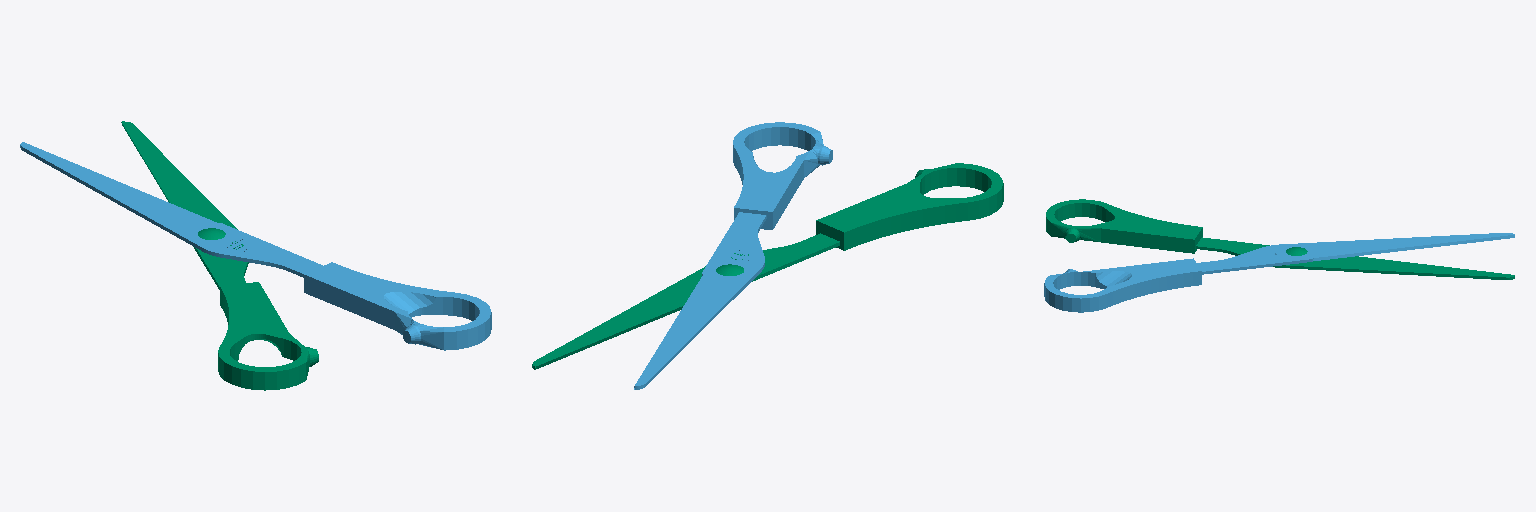
robot.urdf — partnet_u1966699a-abb5-432a-914d-826efb36ad26:
<?xml version="1.0" ?>
<robot name="partnet_u1966699a-abb5-432a-914d-826efb36ad26">
	<link name="base"/>
	<link name="link_0">
		<visual name="blade-4">
			<origin xyz="0.2846520829972621 -0.022109055279467604 -0.0051237135638028675"/>
			<geometry>
				<mesh filename="textured_objs/original-14.obj"/>
			</geometry>
		</visual>
		<visual name="blade-4">
			<origin xyz="0.2846520829972621 -0.022109055279467604 -0.0051237135638028675"/>
			<geometry>
				<mesh filename="textured_objs/original-12.obj"/>
			</geometry>
		</visual>
		<visual name="blade-4">
			<origin xyz="0.2846520829972621 -0.022109055279467604 -0.0051237135638028675"/>
			<geometry>
				<mesh filename="textured_objs/original-11.obj"/>
			</geometry>
		</visual>
		<visual name="blade-4">
			<origin xyz="0.2846520829972621 -0.022109055279467604 -0.0051237135638028675"/>
			<geometry>
				<mesh filename="textured_objs/original-32.obj"/>
			</geometry>
		</visual>
		<visual name="blade-4">
			<origin xyz="0.2846520829972621 -0.022109055279467604 -0.0051237135638028675"/>
			<geometry>
				<mesh filename="textured_objs/original-31.obj"/>
			</geometry>
		</visual>
		<visual name="blade-4">
			<origin xyz="0.2846520829972621 -0.022109055279467604 -0.0051237135638028675"/>
			<geometry>
				<mesh filename="textured_objs/original-34.obj"/>
			</geometry>
		</visual>
		<visual name="blade-4">
			<origin xyz="0.2846520829972621 -0.022109055279467604 -0.0051237135638028675"/>
			<geometry>
				<mesh filename="textured_objs/original-3.obj"/>
			</geometry>
		</visual>
		<visual name="blade-4">
			<origin xyz="0.2846520829972621 -0.022109055279467604 -0.0051237135638028675"/>
			<geometry>
				<mesh filename="textured_objs/original-33.obj"/>
			</geometry>
		</visual>
		<visual name="blade-4">
			<origin xyz="0.2846520829972621 -0.022109055279467604 -0.0051237135638028675"/>
			<geometry>
				<mesh filename="textured_objs/original-2.obj"/>
			</geometry>
		</visual>
		<visual name="blade-4">
			<origin xyz="0.2846520829972621 -0.022109055279467604 -0.0051237135638028675"/>
			<geometry>
				<mesh filename="textured_objs/original-21.obj"/>
			</geometry>
		</visual>
		<visual name="blade-4">
			<origin xyz="0.2846520829972621 -0.022109055279467604 -0.0051237135638028675"/>
			<geometry>
				<mesh filename="textured_objs/original-1.obj"/>
			</geometry>
		</visual>
		<visual name="blade-4">
			<origin xyz="0.2846520829972621 -0.022109055279467604 -0.0051237135638028675"/>
			<geometry>
				<mesh filename="textured_objs/original-24.obj"/>
			</geometry>
		</visual>
		<visual name="blade-4">
			<origin xyz="0.2846520829972621 -0.022109055279467604 -0.0051237135638028675"/>
			<geometry>
				<mesh filename="textured_objs/original-30.obj"/>
			</geometry>
		</visual>
		<visual name="blade-4">
			<origin xyz="0.2846520829972621 -0.022109055279467604 -0.0051237135638028675"/>
			<geometry>
				<mesh filename="textured_objs/original-19.obj"/>
			</geometry>
		</visual>
		<visual name="blade-4">
			<origin xyz="0.2846520829972621 -0.022109055279467604 -0.0051237135638028675"/>
			<geometry>
				<mesh filename="textured_objs/original-13.obj"/>
			</geometry>
		</visual>
		<visual name="handle-5">
			<origin xyz="0.2846520829972621 -0.022109055279467604 -0.0051237135638028675"/>
			<geometry>
				<mesh filename="textured_objs/original-8.obj"/>
			</geometry>
		</visual>
		<visual name="handle-5">
			<origin xyz="0.2846520829972621 -0.022109055279467604 -0.0051237135638028675"/>
			<geometry>
				<mesh filename="textured_objs/original-9.obj"/>
			</geometry>
		</visual>
		<collision>
			<origin xyz="0.2846520829972621 -0.022109055279467604 -0.0051237135638028675"/>
			<geometry>
				<mesh filename="textured_objs/original-14.obj"/>
			</geometry>
		</collision>
		<collision>
			<origin xyz="0.2846520829972621 -0.022109055279467604 -0.0051237135638028675"/>
			<geometry>
				<mesh filename="textured_objs/original-12.obj"/>
			</geometry>
		</collision>
		<collision>
			<origin xyz="0.2846520829972621 -0.022109055279467604 -0.0051237135638028675"/>
			<geometry>
				<mesh filename="textured_objs/original-11.obj"/>
			</geometry>
		</collision>
		<collision>
			<origin xyz="0.2846520829972621 -0.022109055279467604 -0.0051237135638028675"/>
			<geometry>
				<mesh filename="textured_objs/original-32.obj"/>
			</geometry>
		</collision>
		<collision>
			<origin xyz="0.2846520829972621 -0.022109055279467604 -0.0051237135638028675"/>
			<geometry>
				<mesh filename="textured_objs/original-31.obj"/>
			</geometry>
		</collision>
		<collision>
			<origin xyz="0.2846520829972621 -0.022109055279467604 -0.0051237135638028675"/>
			<geometry>
				<mesh filename="textured_objs/original-34.obj"/>
			</geometry>
		</collision>
		<collision>
			<origin xyz="0.2846520829972621 -0.022109055279467604 -0.0051237135638028675"/>
			<geometry>
				<mesh filename="textured_objs/original-3.obj"/>
			</geometry>
		</collision>
		<collision>
			<origin xyz="0.2846520829972621 -0.022109055279467604 -0.0051237135638028675"/>
			<geometry>
				<mesh filename="textured_objs/original-33.obj"/>
			</geometry>
		</collision>
		<collision>
			<origin xyz="0.2846520829972621 -0.022109055279467604 -0.0051237135638028675"/>
			<geometry>
				<mesh filename="textured_objs/original-2.obj"/>
			</geometry>
		</collision>
		<collision>
			<origin xyz="0.2846520829972621 -0.022109055279467604 -0.0051237135638028675"/>
			<geometry>
				<mesh filename="textured_objs/original-21.obj"/>
			</geometry>
		</collision>
		<collision>
			<origin xyz="0.2846520829972621 -0.022109055279467604 -0.0051237135638028675"/>
			<geometry>
				<mesh filename="textured_objs/original-1.obj"/>
			</geometry>
		</collision>
		<collision>
			<origin xyz="0.2846520829972621 -0.022109055279467604 -0.0051237135638028675"/>
			<geometry>
				<mesh filename="textured_objs/original-24.obj"/>
			</geometry>
		</collision>
		<collision>
			<origin xyz="0.2846520829972621 -0.022109055279467604 -0.0051237135638028675"/>
			<geometry>
				<mesh filename="textured_objs/original-30.obj"/>
			</geometry>
		</collision>
		<collision>
			<origin xyz="0.2846520829972621 -0.022109055279467604 -0.0051237135638028675"/>
			<geometry>
				<mesh filename="textured_objs/original-19.obj"/>
			</geometry>
		</collision>
		<collision>
			<origin xyz="0.2846520829972621 -0.022109055279467604 -0.0051237135638028675"/>
			<geometry>
				<mesh filename="textured_objs/original-13.obj"/>
			</geometry>
		</collision>
		<collision>
			<origin xyz="0.2846520829972621 -0.022109055279467604 -0.0051237135638028675"/>
			<geometry>
				<mesh filename="textured_objs/original-8.obj"/>
			</geometry>
		</collision>
		<collision>
			<origin xyz="0.2846520829972621 -0.022109055279467604 -0.0051237135638028675"/>
			<geometry>
				<mesh filename="textured_objs/original-9.obj"/>
			</geometry>
		</collision>
	</link>
	<joint name="joint_0" type="revolute">
		<origin xyz="-0.2846520829972621 0.022109055279467604 0.0051237135638028675"/>
		<axis xyz="0 1 0"/>
		<child link="link_0"/>
		<parent link="link_1"/>
		<limit lower="-0.3665191429188092" upper="0.7853981633974483"/>
	</joint>
	<link name="link_1">
		<visual name="screw-3">
			<origin xyz="0 0 0"/>
			<geometry>
				<mesh filename="textured_objs/original-36.obj"/>
			</geometry>
		</visual>
		<visual name="screw-3">
			<origin xyz="0 0 0"/>
			<geometry>
				<mesh filename="textured_objs/original-39.obj"/>
			</geometry>
		</visual>
		<visual name="screw-3">
			<origin xyz="0 0 0"/>
			<geometry>
				<mesh filename="textured_objs/original-28.obj"/>
			</geometry>
		</visual>
		<visual name="screw-3">
			<origin xyz="0 0 0"/>
			<geometry>
				<mesh filename="textured_objs/original-27.obj"/>
			</geometry>
		</visual>
		<visual name="screw-3">
			<origin xyz="0 0 0"/>
			<geometry>
				<mesh filename="textured_objs/original-38.obj"/>
			</geometry>
		</visual>
		<visual name="screw-3">
			<origin xyz="0 0 0"/>
			<geometry>
				<mesh filename="textured_objs/original-29.obj"/>
			</geometry>
		</visual>
		<visual name="screw-3">
			<origin xyz="0 0 0"/>
			<geometry>
				<mesh filename="textured_objs/original-26.obj"/>
			</geometry>
		</visual>
		<visual name="screw-3">
			<origin xyz="0 0 0"/>
			<geometry>
				<mesh filename="textured_objs/original-23.obj"/>
			</geometry>
		</visual>
		<visual name="screw-3">
			<origin xyz="0 0 0"/>
			<geometry>
				<mesh filename="textured_objs/original-25.obj"/>
			</geometry>
		</visual>
		<visual name="screw-3">
			<origin xyz="0 0 0"/>
			<geometry>
				<mesh filename="textured_objs/original-20.obj"/>
			</geometry>
		</visual>
		<visual name="screw-3">
			<origin xyz="0 0 0"/>
			<geometry>
				<mesh filename="textured_objs/original-37.obj"/>
			</geometry>
		</visual>
		<visual name="screw-3">
			<origin xyz="0 0 0"/>
			<geometry>
				<mesh filename="textured_objs/original-40.obj"/>
			</geometry>
		</visual>
		<visual name="blade-6">
			<origin xyz="0 0 0"/>
			<geometry>
				<mesh filename="textured_objs/original-18.obj"/>
			</geometry>
		</visual>
		<visual name="blade-6">
			<origin xyz="0 0 0"/>
			<geometry>
				<mesh filename="textured_objs/original-7.obj"/>
			</geometry>
		</visual>
		<visual name="blade-6">
			<origin xyz="0 0 0"/>
			<geometry>
				<mesh filename="textured_objs/original-17.obj"/>
			</geometry>
		</visual>
		<visual name="blade-6">
			<origin xyz="0 0 0"/>
			<geometry>
				<mesh filename="textured_objs/original-16.obj"/>
			</geometry>
		</visual>
		<visual name="handle-7">
			<origin xyz="0 0 0"/>
			<geometry>
				<mesh filename="textured_objs/original-4.obj"/>
			</geometry>
		</visual>
		<visual name="handle-7">
			<origin xyz="0 0 0"/>
			<geometry>
				<mesh filename="textured_objs/original-6.obj"/>
			</geometry>
		</visual>
		<collision>
			<origin xyz="0 0 0"/>
			<geometry>
				<mesh filename="textured_objs/original-36.obj"/>
			</geometry>
		</collision>
		<collision>
			<origin xyz="0 0 0"/>
			<geometry>
				<mesh filename="textured_objs/original-39.obj"/>
			</geometry>
		</collision>
		<collision>
			<origin xyz="0 0 0"/>
			<geometry>
				<mesh filename="textured_objs/original-28.obj"/>
			</geometry>
		</collision>
		<collision>
			<origin xyz="0 0 0"/>
			<geometry>
				<mesh filename="textured_objs/original-27.obj"/>
			</geometry>
		</collision>
		<collision>
			<origin xyz="0 0 0"/>
			<geometry>
				<mesh filename="textured_objs/original-38.obj"/>
			</geometry>
		</collision>
		<collision>
			<origin xyz="0 0 0"/>
			<geometry>
				<mesh filename="textured_objs/original-29.obj"/>
			</geometry>
		</collision>
		<collision>
			<origin xyz="0 0 0"/>
			<geometry>
				<mesh filename="textured_objs/original-26.obj"/>
			</geometry>
		</collision>
		<collision>
			<origin xyz="0 0 0"/>
			<geometry>
				<mesh filename="textured_objs/original-23.obj"/>
			</geometry>
		</collision>
		<collision>
			<origin xyz="0 0 0"/>
			<geometry>
				<mesh filename="textured_objs/original-25.obj"/>
			</geometry>
		</collision>
		<collision>
			<origin xyz="0 0 0"/>
			<geometry>
				<mesh filename="textured_objs/original-20.obj"/>
			</geometry>
		</collision>
		<collision>
			<origin xyz="0 0 0"/>
			<geometry>
				<mesh filename="textured_objs/original-37.obj"/>
			</geometry>
		</collision>
		<collision>
			<origin xyz="0 0 0"/>
			<geometry>
				<mesh filename="textured_objs/original-40.obj"/>
			</geometry>
		</collision>
		<collision>
			<origin xyz="0 0 0"/>
			<geometry>
				<mesh filename="textured_objs/original-18.obj"/>
			</geometry>
		</collision>
		<collision>
			<origin xyz="0 0 0"/>
			<geometry>
				<mesh filename="textured_objs/original-7.obj"/>
			</geometry>
		</collision>
		<collision>
			<origin xyz="0 0 0"/>
			<geometry>
				<mesh filename="textured_objs/original-17.obj"/>
			</geometry>
		</collision>
		<collision>
			<origin xyz="0 0 0"/>
			<geometry>
				<mesh filename="textured_objs/original-16.obj"/>
			</geometry>
		</collision>
		<collision>
			<origin xyz="0 0 0"/>
			<geometry>
				<mesh filename="textured_objs/original-4.obj"/>
			</geometry>
		</collision>
		<collision>
			<origin xyz="0 0 0"/>
			<geometry>
				<mesh filename="textured_objs/original-6.obj"/>
			</geometry>
		</collision>
	</link>
	<joint name="joint_1" type="fixed">
		<origin rpy="1.570796326794897 0 -1.570796326794897" xyz="0 0 0"/>
		<child link="link_1"/>
		<parent link="base"/>
	</joint>
</robot>

--- Render facts (derived) ---
The picture shows the robot from 3 angles, left to right: view 1: azimuth 30°, elevation 25°; view 2: azimuth 150°, elevation 25°; view 3: azimuth 270°, elevation 25°; orthographic projection.
Robot: partnet_u1966699a-abb5-432a-914d-826efb36ad26 — 3 links, 2 joints (1 revolute, 1 fixed); root link base; default pose: all joints at 0.
Visible links, largest first — view 1: link_0, link_1; view 2: link_1, link_0; view 3: link_0, link_1.
Link boxes in pixels (box(x1,y1,x2,y2)): link_0: box(20, 142, 491, 350); link_1: box(121, 121, 318, 390); link_1: box(532, 163, 1003, 369); link_0: box(634, 122, 832, 389); link_0: box(1044, 233, 1514, 312); link_1: box(1046, 199, 1514, 279).
Bounding box of the posed robot: 0.7819 × 1.6 × 0.0613 m (x, y, z).
Meshes: 35 distinct files referenced, 35 mesh visuals loaded (35 OBJ).
